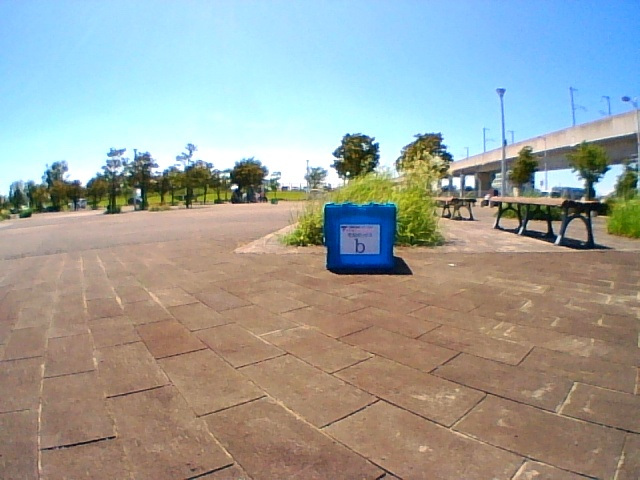blue_box: (324, 204, 394, 269)
tag_b: (341, 226, 380, 253)
